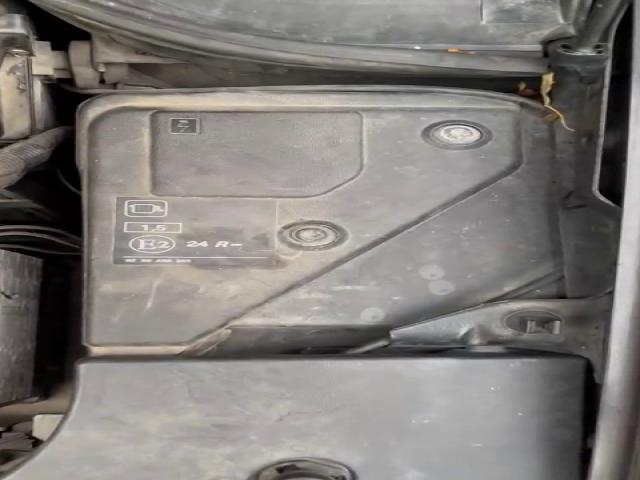fuse_box: (90, 100, 558, 349)
